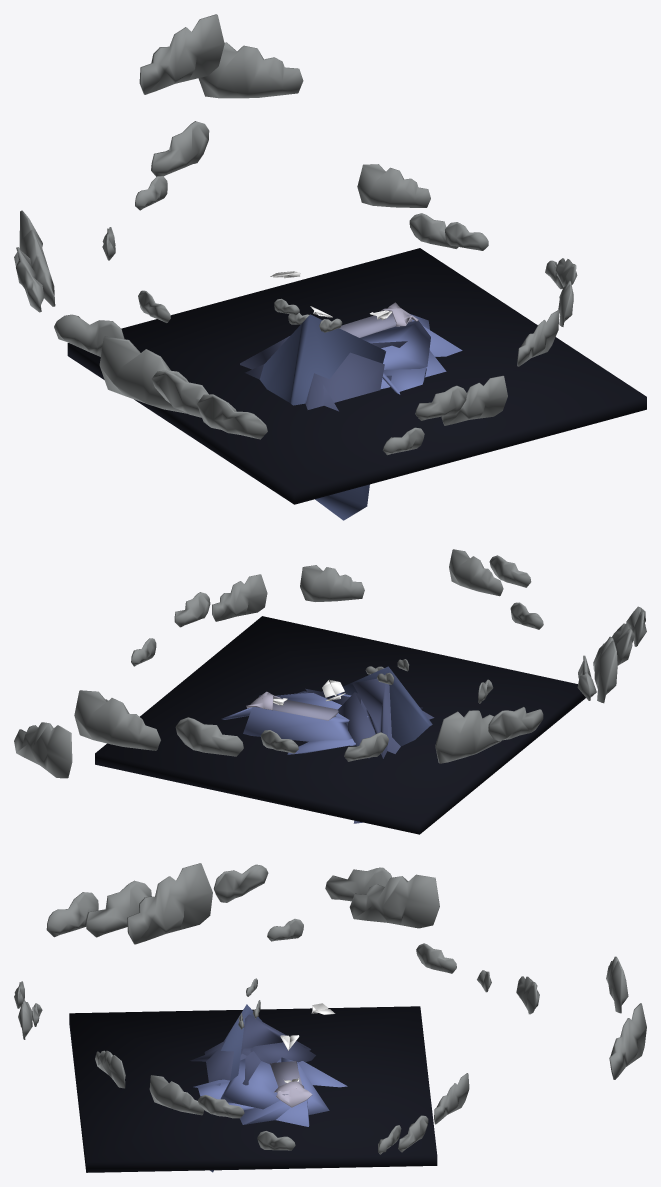
Rendered from planes2.fbx.
The picture shows the model from 3 angles, top to bottom: view 1: azimuth 30°, elevation 25°; view 2: azimuth 150°, elevation 25°; view 3: azimuth 270°, elevation 25°; orthographic projection. The views are drawn at different scales.
Visible parts, largest first — view 1: p.0014, s.0030, s.0061, s.0078, s.0067, p.0018, s.0073, s.0035, s.0060, s.0068, s.0043, s.0077 (+9 smaller); view 2: p.0014, s.0078, s.0033, s.0061, s.0064, s.0030, s.0076, s.0060, s.0070, s.0043, s.0028, s.0063 (+15 smaller); view 3: p.0014, s.0067, s.0064, s.0066, s.0035, s.0061, s.0063, s.0068, s.0077, s.0033, s.0070, s.0028 (+17 smaller).
Part boxes in pixels (x1,y1,x2,y2): p.0014: (67, 248, 646, 504); s.0030: (259, 314, 385, 520); s.0061: (198, 42, 303, 98); s.0078: (139, 14, 224, 94); s.0067: (99, 336, 188, 413); p.0018: (305, 352, 384, 409); s.0073: (357, 164, 430, 207); s.0035: (360, 320, 430, 369); s.0060: (151, 121, 209, 176); s.0068: (197, 394, 267, 439); s.0043: (441, 375, 507, 425); s.0077: (54, 314, 124, 356); p.0014: (95, 616, 585, 834); s.0078: (74, 690, 160, 750); s.0033: (243, 695, 355, 745); s.0061: (14, 722, 72, 778); s.0064: (435, 710, 501, 763); s.0030: (340, 666, 432, 746); s.0076: (300, 565, 364, 601); s.0060: (175, 717, 243, 756); s.0070: (212, 574, 267, 621); s.0043: (449, 549, 503, 596); s.0028: (352, 678, 390, 758); s.0063: (488, 707, 543, 740); p.0014: (69, 1006, 437, 1172); s.0067: (127, 863, 212, 944); s.0064: (349, 874, 439, 928); s.0066: (86, 880, 151, 937); s.0035: (220, 1058, 281, 1109); s.0061: (609, 1003, 646, 1079); s.0063: (325, 867, 392, 901); s.0068: (46, 892, 98, 937); s.0077: (213, 864, 268, 902); s.0033: (240, 1057, 329, 1124); s.0070: (149, 1075, 204, 1115); s.0028: (241, 1014, 310, 1055).
Size of the model in its own units: 516 by 655 by 287.
